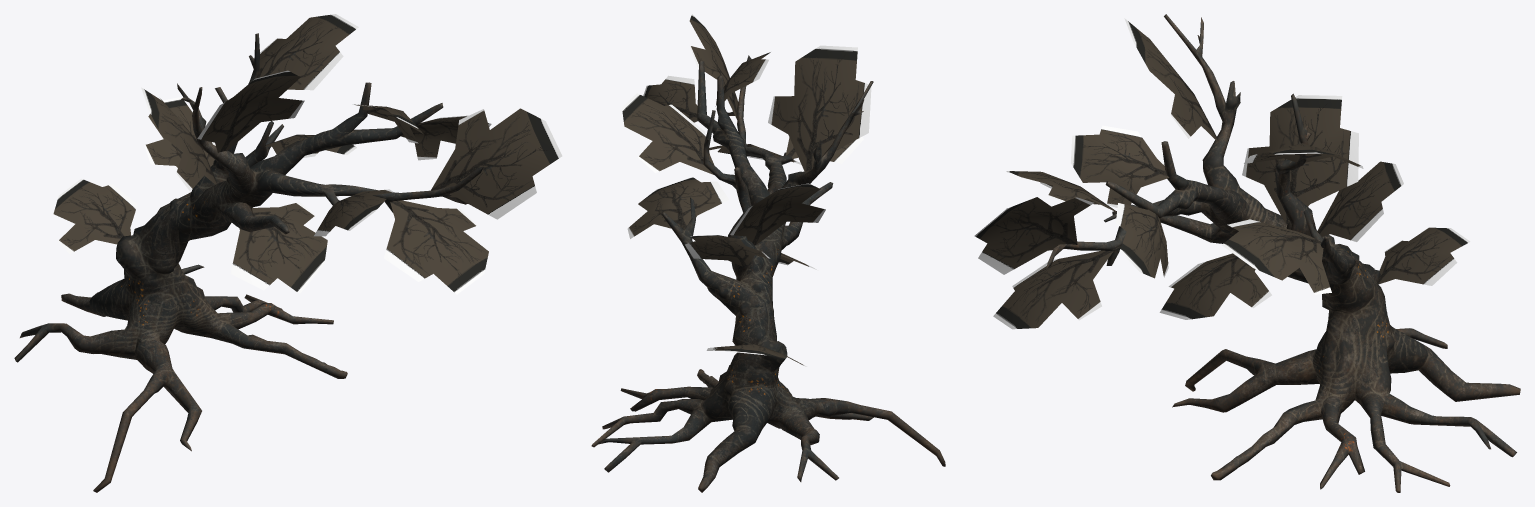
The model's file is arbol_seco_2.obj.
3 views of the same model, side by side, from view 1: azimuth 30°, elevation 25°; view 2: azimuth 150°, elevation 25°; view 3: azimuth 270°, elevation 25° (orthographic). The views are drawn at different scales.
Visible parts, largest first — view 1: export_branches_2_branches_0, export_tree2_tree2_0; view 2: export_tree2_tree2_0, export_branches_2_branches_0; view 3: export_branches_2_branches_0, export_tree2_tree2_0.
Boxes of the visible parts, box(x1,y1,x2,y2) form: export_branches_2_branches_0: box(53, 14, 562, 294); export_tree2_tree2_0: box(14, 33, 483, 492); export_tree2_tree2_0: box(591, 55, 945, 492); export_branches_2_branches_0: box(622, 14, 871, 366); export_branches_2_branches_0: box(974, 18, 1470, 329); export_tree2_tree2_0: box(1046, 14, 1520, 492).
Size of the model in its own units: 0.946 by 1 by 1.12.
2 materials, 2 textured.
